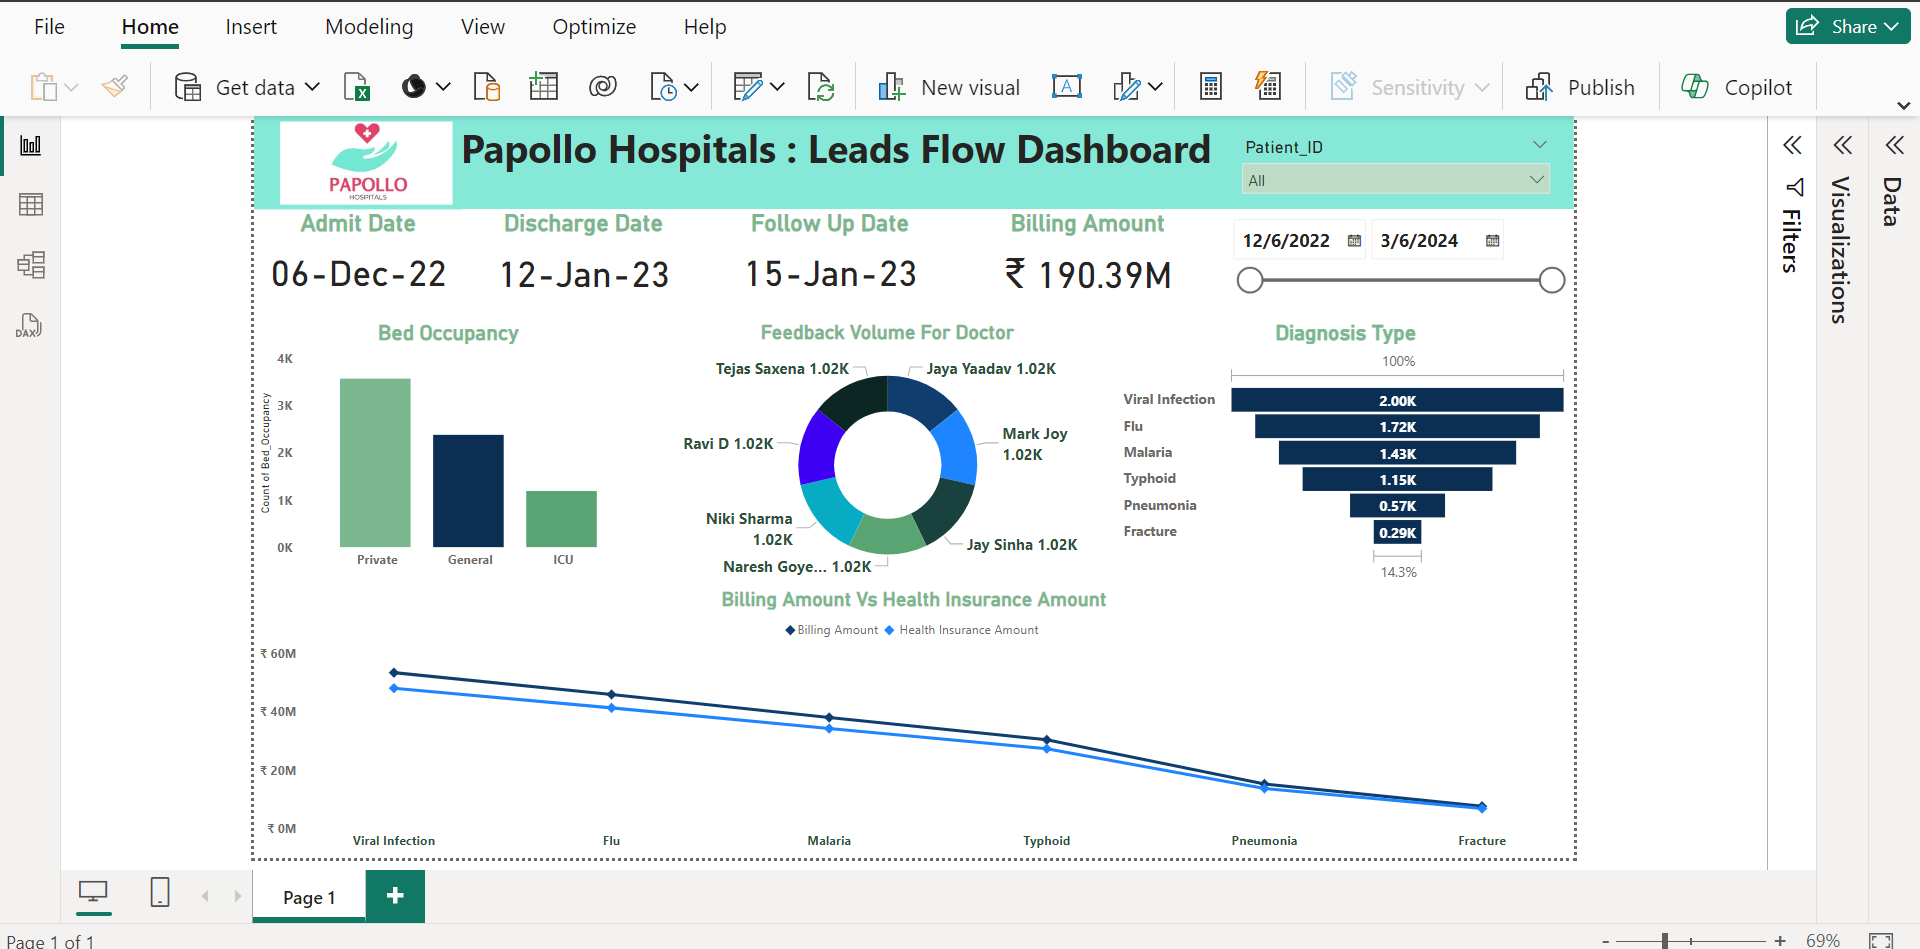

This screenshot's page, from the dashboard's own definition file:
{"tool":"powerbi","page":{"name":"Page 1","canvas":[1280,720],"ordinal":0},"visuals":[{"type":"textbox","box":[0,0,1280.8,90.7],"z":1},{"type":"image","box":[0,0,218.6,90.7],"z":2},{"type":"slicer","fields":{"Values":["Sheet1.Patient_ID"]},"box":[948.9,14.6,319,76.1],"z":3},{"type":"card","title":"Admit Date","fields":{"Values":["Min(Sheet1.Admit_Date)"]},"box":[0,90.7,202.4,92.3],"z":4},{"type":"card","title":"Discharge Date","fields":{"Values":["Min(Sheet1.Discharge_Date)"]},"box":[202.4,90.7,234.8,93.9],"z":5},{"type":"card","title":"Follow Up Date","fields":{"Values":["Min(Sheet1.Followup Date)"]},"box":[437.2,90.7,244.5,92.3],"z":6},{"type":"card","title":"Billing Amount","fields":{"Values":["Sum(Sheet1.Billing Amount)"]},"box":[681.7,90.7,255.8,93.9],"z":7},{"type":"slicer","fields":{"Values":["Sheet1.Admit_Date"]},"box":[937.5,90.7,343.3,93.9],"z":8},{"type":"columnChart","title":"Bed Occupancy","fields":{"Category":["Sheet1.Bed_Occupancy"],"Y":["CountNonNull(Sheet1.Bed_Occupancy)"]},"box":[0,197.5,377.3,259.1],"z":9},{"type":"donutChart","title":"Feedback Volume For Doctor","fields":{"Y":["CountNonNull(Sheet1.Doctor)"],"Category":["Sheet1.Doctor"]},"box":[401.6,197.5,425.9,259.1],"z":10},{"type":"funnel","title":"Diagnosis Type","fields":{"Category":["Sheet1.Diagnosis"],"Y":["CountNonNull(Sheet1.Diagnosis)"]},"box":[838.8,197.5,442,259.1],"z":11},{"type":"lineChart","title":"Billing Amount Vs  Health Insurance Amount ","fields":{"Y":["Sum(Sheet1.Billing Amount)","Sum(Sheet1.Health Insurance Amount)"],"Category":["Sheet1.Diagnosis"]},"box":[0,456.6,1280.8,263.9],"z":12}]}

Visuals, with their boxes on the page's 1280x720 design canvas (x1, y1, x2, y2). These are canvas units, not pixel positions in the 1920x949 screenshot, which may show the page scaled, cropped or inside an application window:
textbox: [x1=0, y1=0, x2=1281, y2=91]
image: [x1=0, y1=0, x2=219, y2=91]
slicer - Sheet1.Patient_ID: [x1=949, y1=15, x2=1268, y2=91]
"Admit Date" card: [x1=0, y1=91, x2=202, y2=183]
"Discharge Date" card: [x1=202, y1=91, x2=437, y2=185]
"Follow Up Date" card: [x1=437, y1=91, x2=682, y2=183]
"Billing Amount" card: [x1=682, y1=91, x2=938, y2=185]
slicer - Sheet1.Admit_Date: [x1=938, y1=91, x2=1281, y2=185]
"Bed Occupancy" columnChart: [x1=0, y1=198, x2=377, y2=457]
"Feedback Volume For Doctor" donutChart: [x1=402, y1=198, x2=828, y2=457]
"Diagnosis Type" funnel: [x1=839, y1=198, x2=1281, y2=457]
"Billing Amount Vs  Health Insurance Amount " lineChart: [x1=0, y1=457, x2=1281, y2=720]
